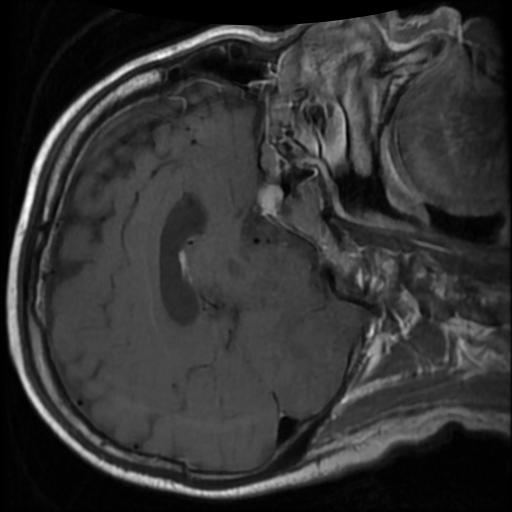pituitary tumour: (256, 185, 282, 218)
